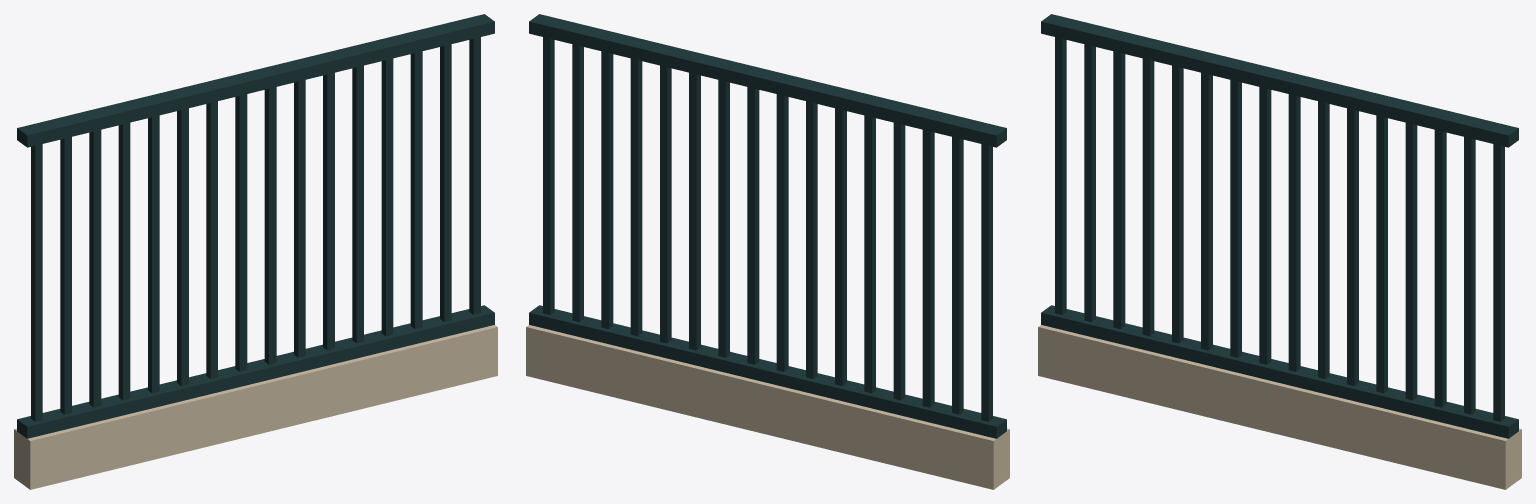
The model's file is bars_panel_S.fbx.
3 views of the same model, side by side, from view 1: azimuth 30°, elevation 25°; view 2: azimuth 150°, elevation 25°; view 3: azimuth 330°, elevation 25° (orthographic).
Parts seen in each view (by area): view 1: bars_panel_S; view 2: bars_panel_S; view 3: bars_panel_S.
Boxes of the visible parts, <box> form: bars_panel_S: <box>14,14,497,489</box>; bars_panel_S: <box>526,14,1009,489</box>; bars_panel_S: <box>1038,14,1521,489</box>.
Bounding box in the file's own units: 2.5 × 1.8 × 0.15.
